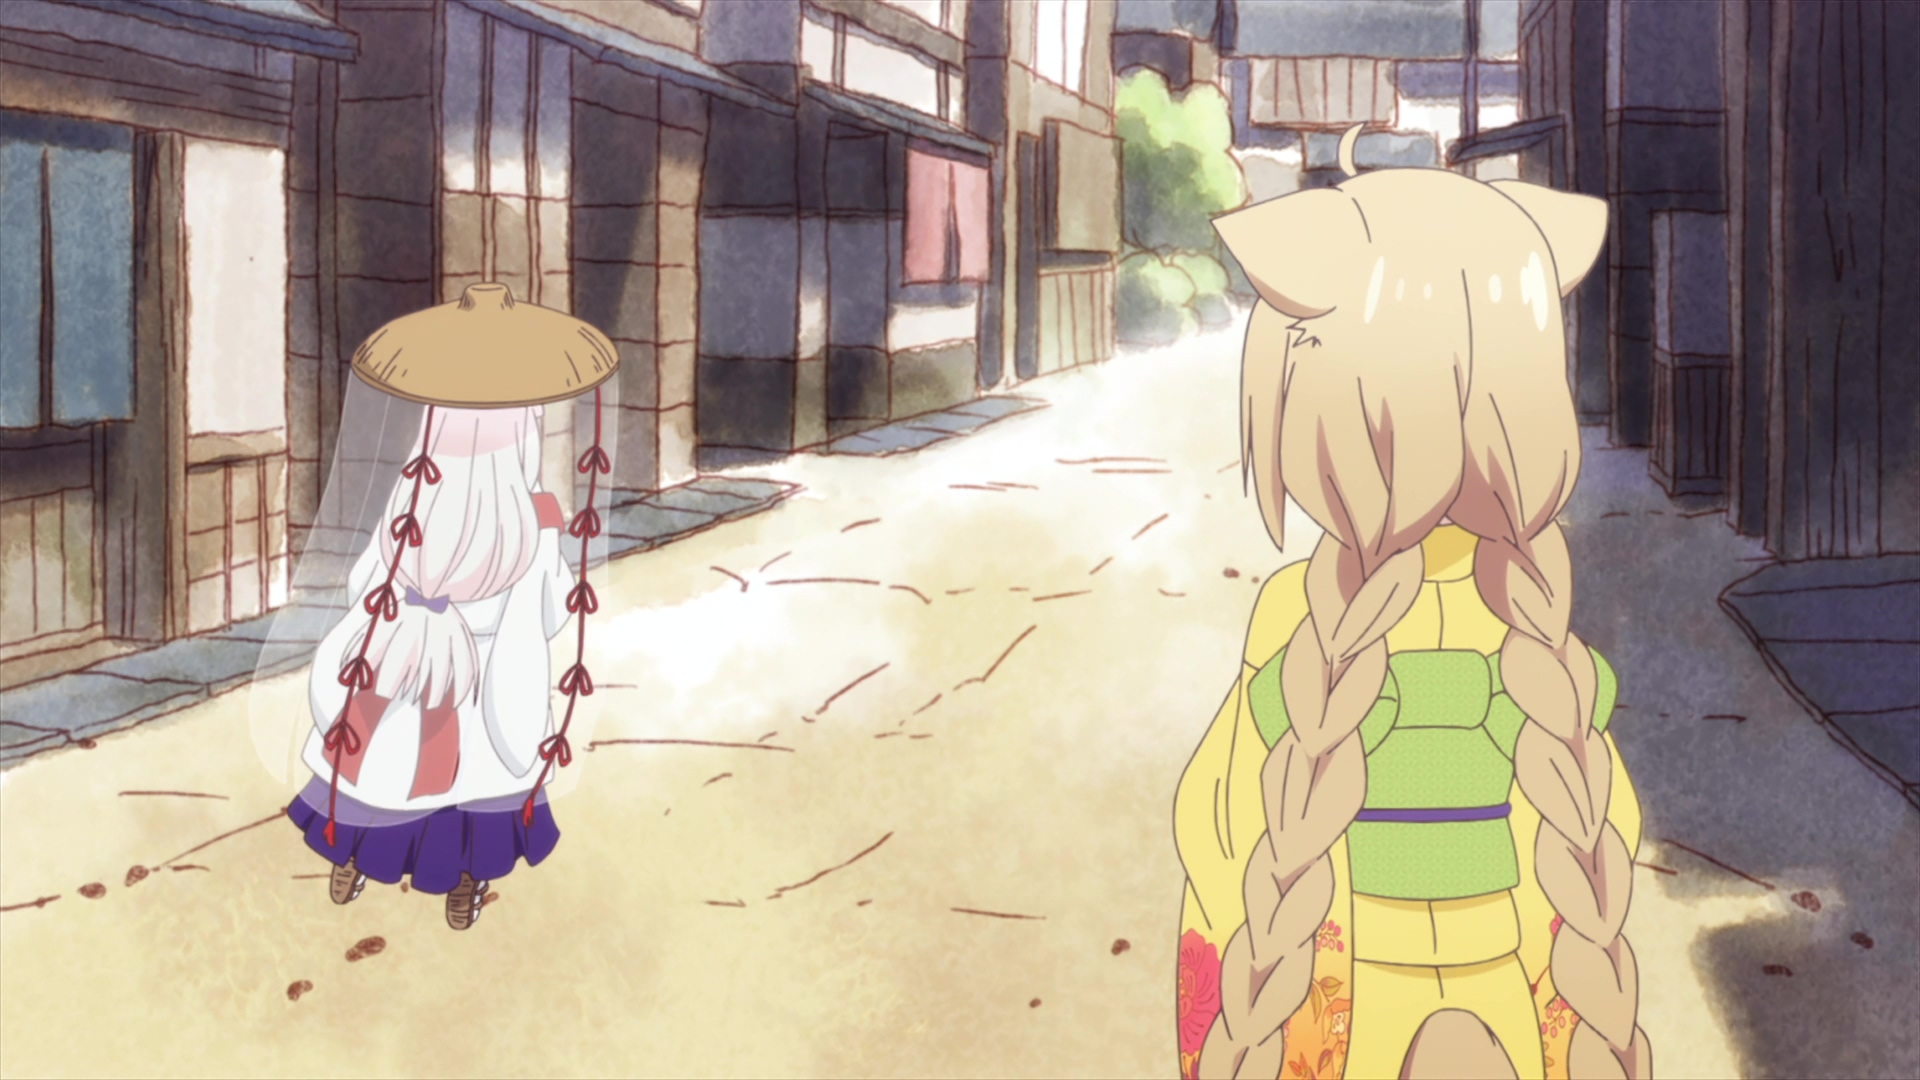其他: (252, 285, 622, 932)
柚: (1171, 123, 1658, 1080)
